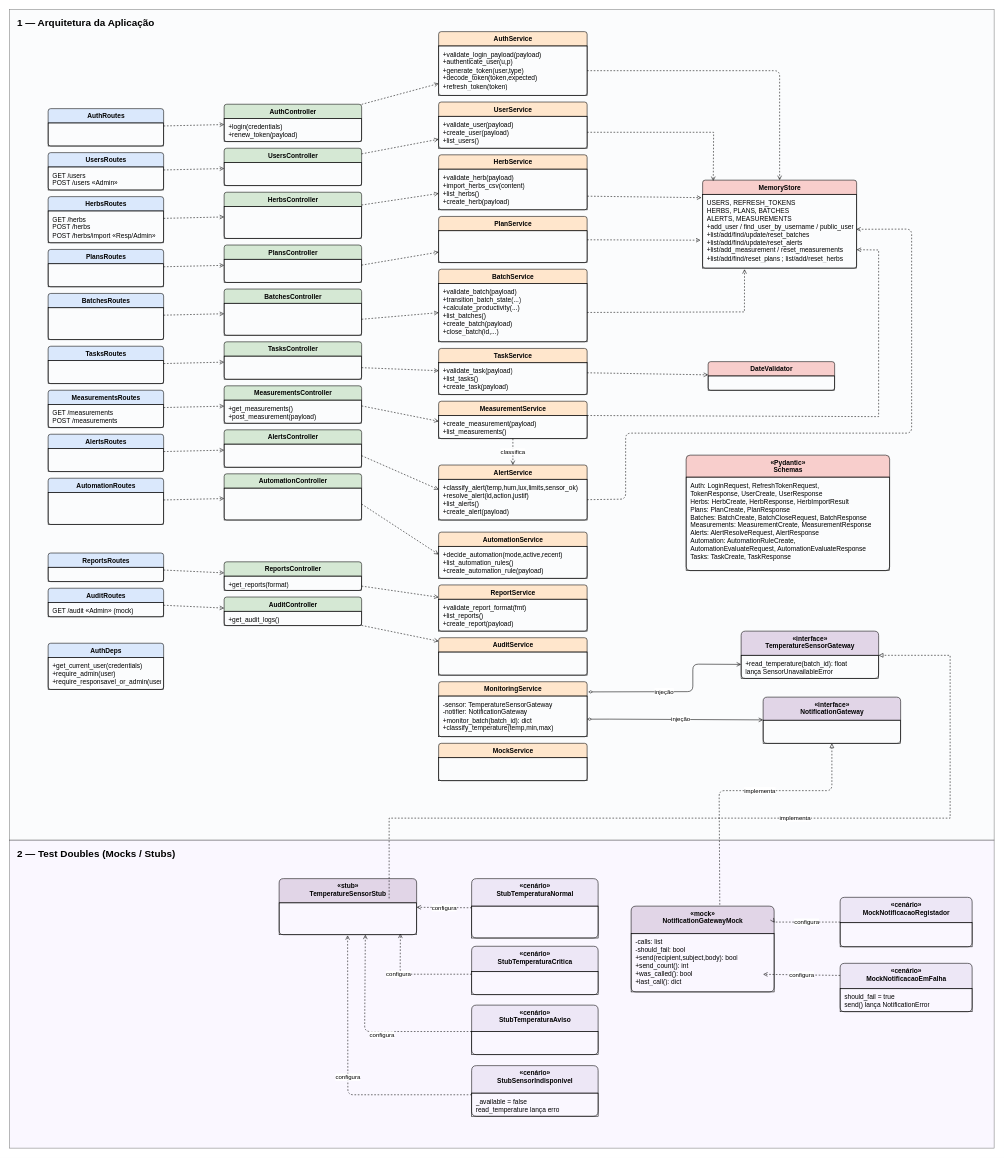
Image size: 1004x1158. Some labels were removed from this diagram. Each missing label, with the centre of its shape:
+create_mock(resource,payload) +list_mock(resource): point 512,769
+get_alerts() +patch_alert(id,payload): point 293,455
+get_automation_rules() +post_automation_rule(payload) +post_evaluate(payload): point 293,504
+get_batches() +post_batch(payload) +patch_close_batch(id,payload): point 293,319
+get_herbs() +post_herb(payload) +post_import_csv(content): point 293,222
+get_plans() +post_plan(payload): point 293,270
+get_tasks() +create_task_endpoint(payload): point 293,367
+get_users() +post_user(payload): point 293,174
+is_auditable_action(action) +list_audit_logs(): point 512,663
+send(recipient,subject,body): bool lança NotificationError: point 832,731
+validate_date(date_str): point 771,382
+validate_plan(payload) +create_plan(payload) +list_plans(): point 512,246
-_temperature: float -_available: bool +read_temperature(batch_id): float: point 348,918
_temperature = 23.0 _available = true → sem alerta: point 534,922
_temperature = 31.0 / 35.0 → Informativo: point 534,1043
_temperature = 5.0 / 36.0 / 40.0 → Crítico + notificação: point 534,983
GET /alerts PATCH /alerts/{id}: point 106,460
GET /automation (mock) POST /automation (mock) POST /automation/evaluate: point 106,508
GET /batches POST /batches PATCH /batches/{id}/close: point 106,323
GET /plans POST /plans: point 106,275
GET /reports?format (list mock): point 106,574
GET /tasks POST /tasks (persist. mock): point 106,372
POST /auth/login POST /auth/refresh: point 106,134
should_fail = false regista chamadas em calls[]: point 906,934
